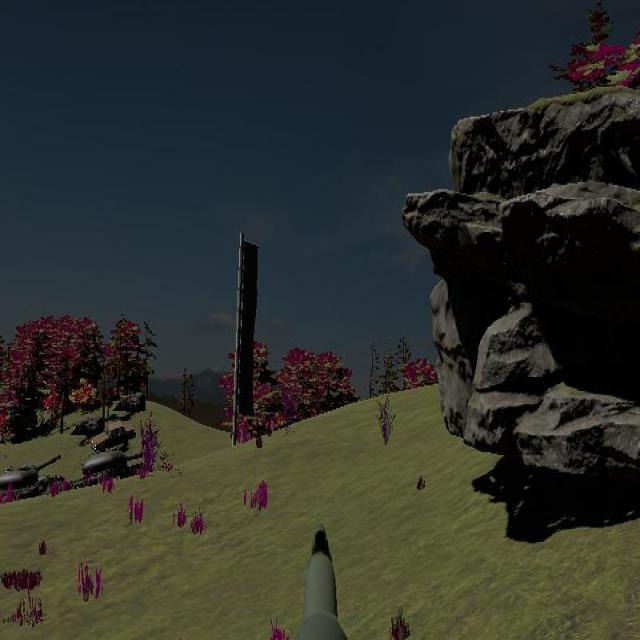Tank: (0, 455, 63, 520)
car: (91, 421, 137, 453), (92, 421, 136, 453)
